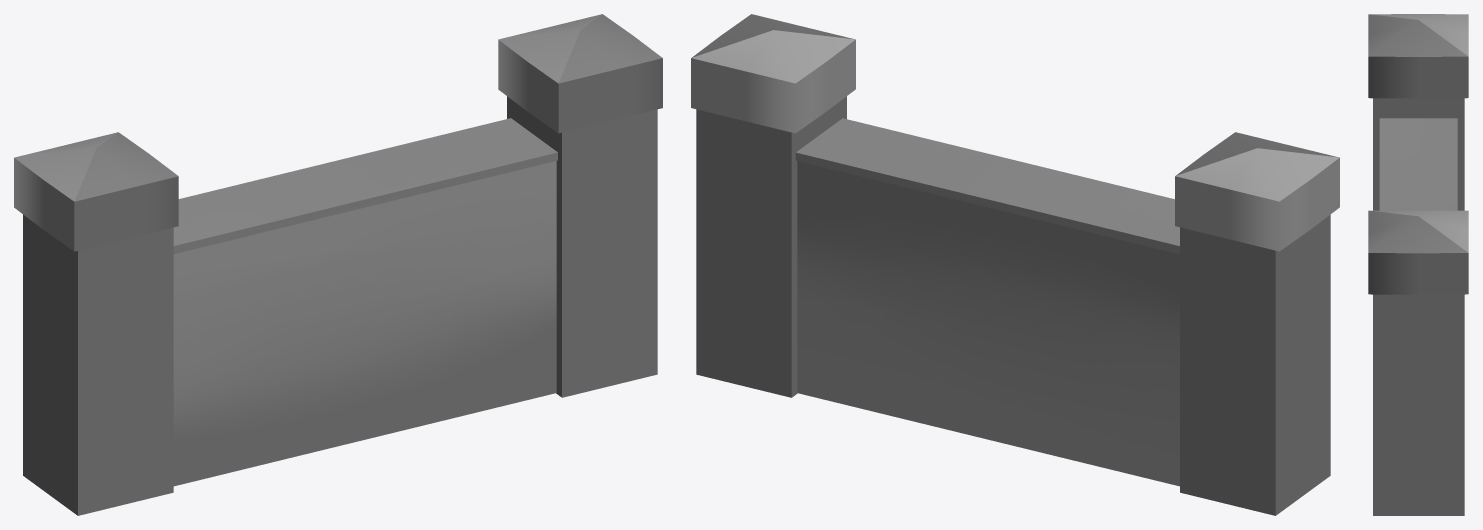
Rendered from wall1.obj.
3 views of the same model, side by side, from view 1: azimuth 30°, elevation 25°; view 2: azimuth 150°, elevation 25°; view 3: azimuth 270°, elevation 25° (orthographic). The views are drawn at different scales.
Visible parts, largest first — view 1: pCube1, pCube3, pCube6, pCube7, pCube4 group1, pCube4 group2, group2 pCube5, group1 pCube5; view 2: pCube1, pCube3, pCube6, pCube7, group1 pCube5, group2 pCube5, pCube4 group2, pCube4 group1; view 3: pCube6, pCube7, pCube4 group1, pCube4 group2, pCube3, group2 pCube5, group1 pCube5.
Part boxes in pixels (x1,y1,x2,y2): pCube1: (173,161,556,486); pCube3: (23,214,173,515); pCube6: (507,96,657,397); pCube7: (173,118,557,253); pCube4 group1: (74,132,178,251); pCube4 group2: (558,14,662,133); group2 pCube5: (498,14,601,133); group1 pCube5: (14,132,117,251); pCube1: (797,161,1179,486); pCube3: (1180,214,1330,515); pCube6: (696,96,846,397); pCube7: (795,118,1179,254); group1 pCube5: (1175,148,1339,251); group2 pCube5: (691,30,855,133); pCube4 group2: (692,14,854,57); pCube4 group1: (1176,132,1337,175); pCube6: (1373,294,1464,515); pCube7: (1379,118,1457,210); pCube4 group1: (1368,14,1468,98); pCube4 group2: (1368,210,1468,294); pCube3: (1373,98,1464,210); group2 pCube5: (1370,210,1468,252); group1 pCube5: (1370,14,1468,56).
Bounding box in the file's own units: 8.03 × 4.37 × 1.42.
Materials: 3 (2 with a texture image).
